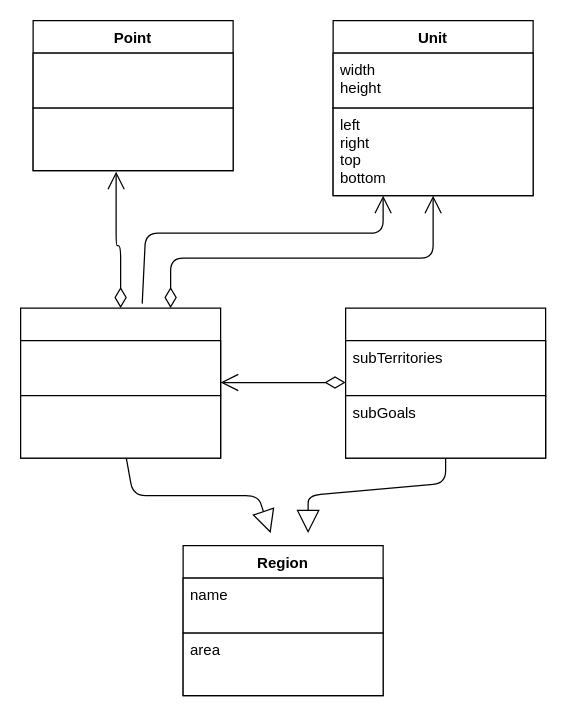
This 566x716 diagram has some shape labels left out. Here are the shapes that lost their labels. From the top down, the box of each, then its label:
(32, 52, 233, 108): x y
(32, 107, 233, 171): equals
(19, 339, 221, 396): goal units
(19, 307, 221, 458): SubTerritory
(344, 307, 546, 458): Territory
